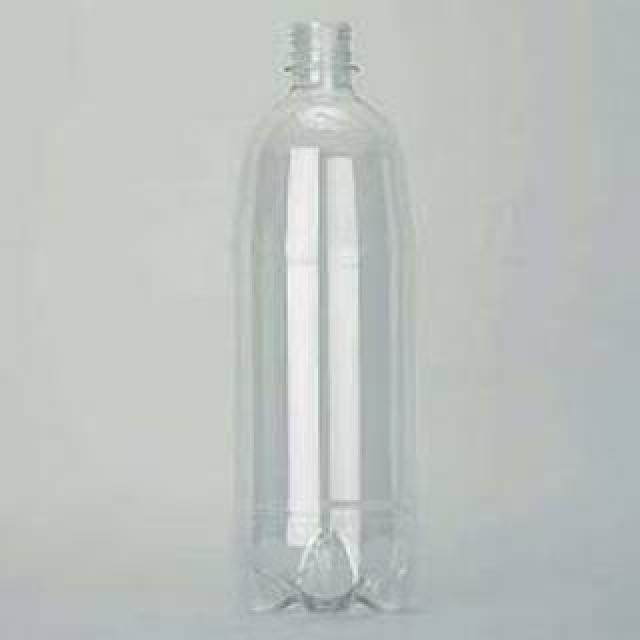Pet_Bottle: (230, 18, 414, 624)
